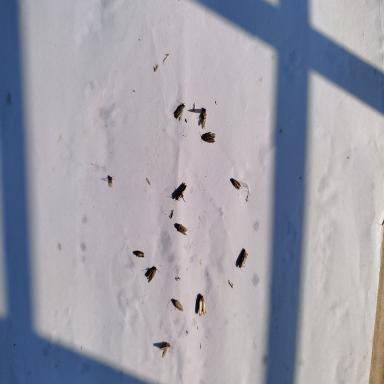pbw: (173, 98, 186, 122), (173, 181, 187, 203), (144, 266, 162, 282), (238, 248, 249, 272), (198, 130, 216, 144), (198, 106, 207, 130), (173, 222, 188, 236), (159, 342, 172, 358), (198, 294, 206, 316), (229, 177, 241, 191), (172, 298, 184, 312), (132, 249, 144, 258)
